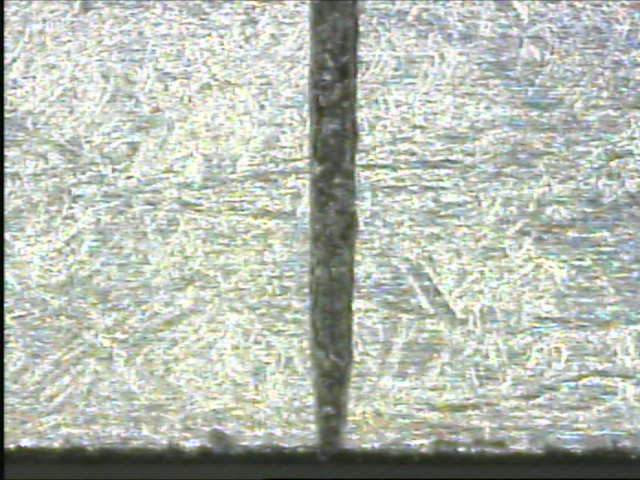line: (305, 1, 364, 457)
